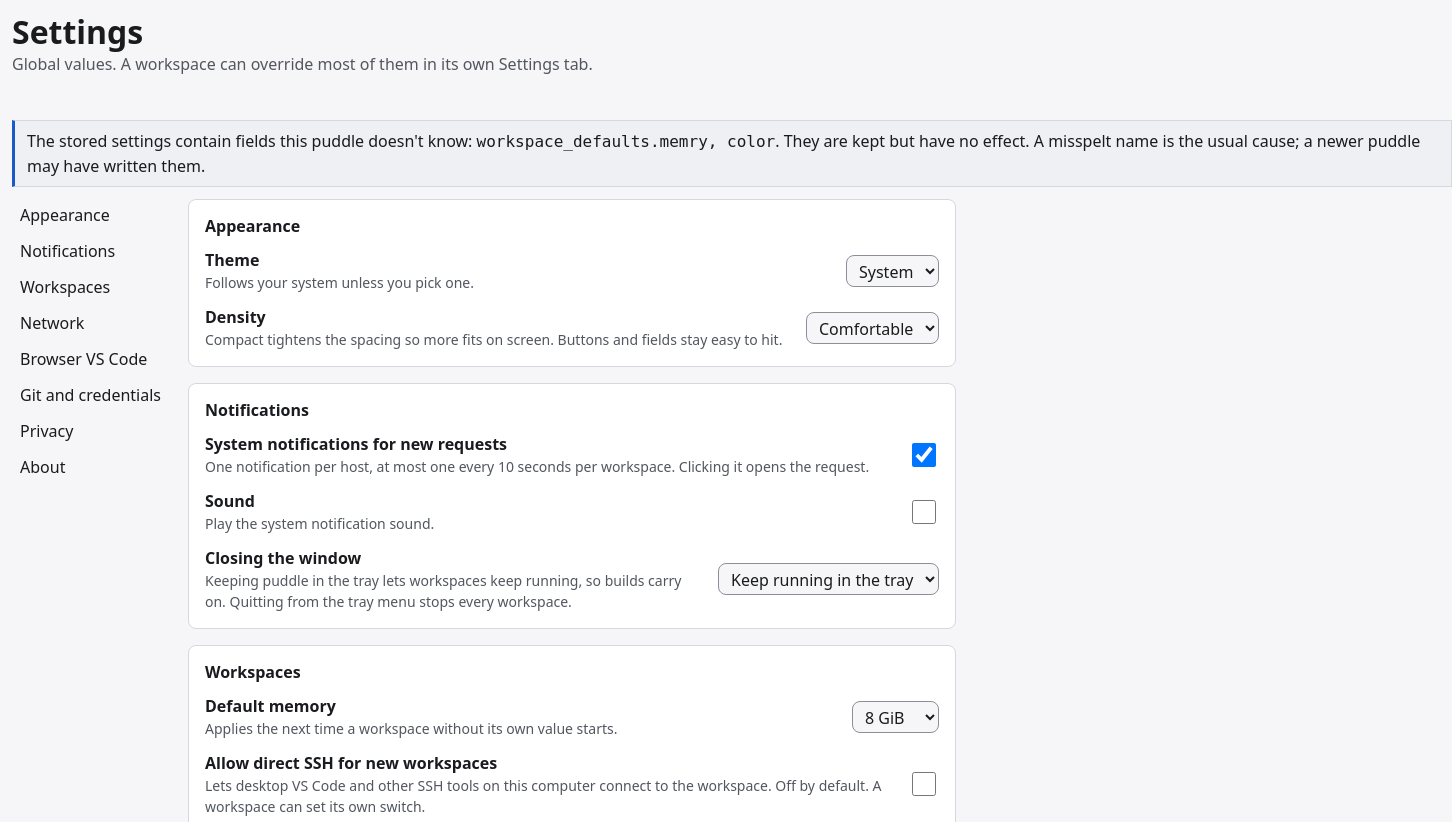
Test: appearance and notifications › says when the theme applied but could not be stored
The width and height of the screenshot is (1452, 822).
Expected: the heading "Appearance" is shown, [205,215,300,237]
Select "Light" in the dropdown labelled "Theme" at point(892, 270), box [846,254,939,286]
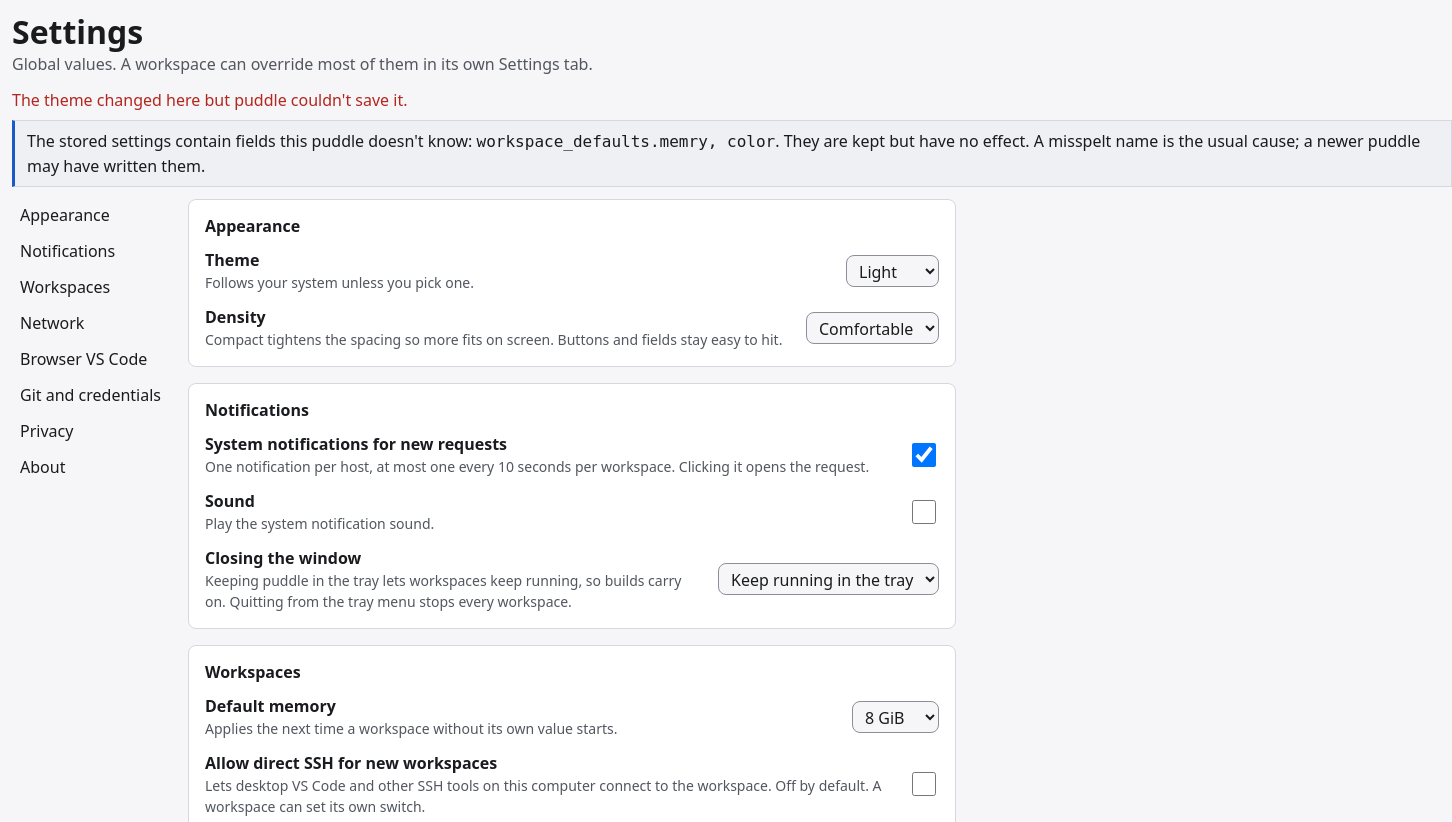
Expected: the message "The theme changed here but puddle couldn't save it." is shown, [12,89,408,111]
